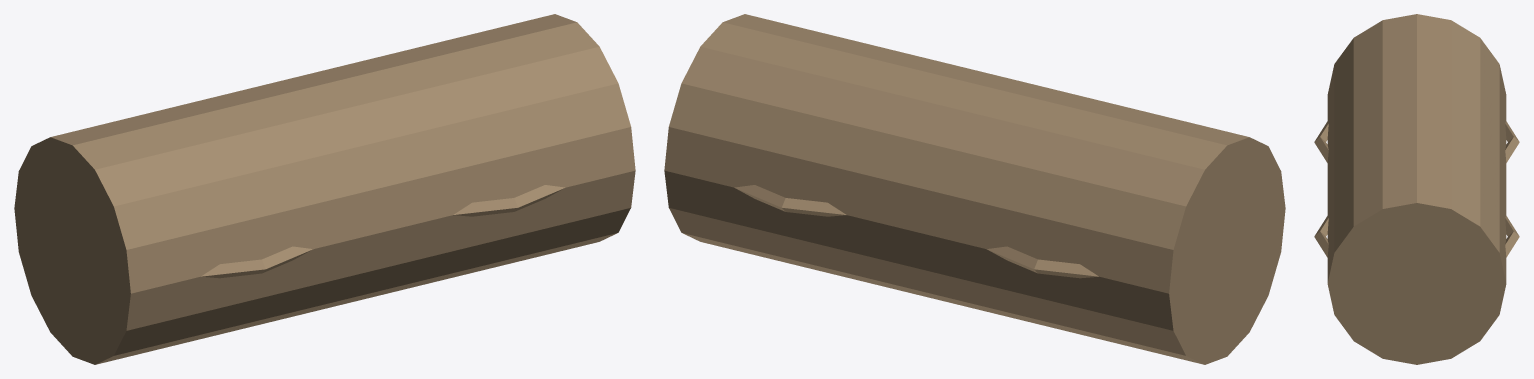
The model's file is bedroll.glb.
3 renders of one model, left to right at view 1: azimuth 30°, elevation 25°; view 2: azimuth 150°, elevation 25°; view 3: azimuth 270°, elevation 25°, orthographic. The views are drawn at different scales.
Visible parts, largest first — view 1: bedroll; view 2: bedroll; view 3: bedroll.
Part boxes in pixels (box(x1,y1,x2,y2)): bedroll: box(14, 14, 635, 364); bedroll: box(664, 14, 1285, 364); bedroll: box(1314, 14, 1519, 364).
Bounding box in the file's own units: 0.6 × 0.24 × 0.276.
